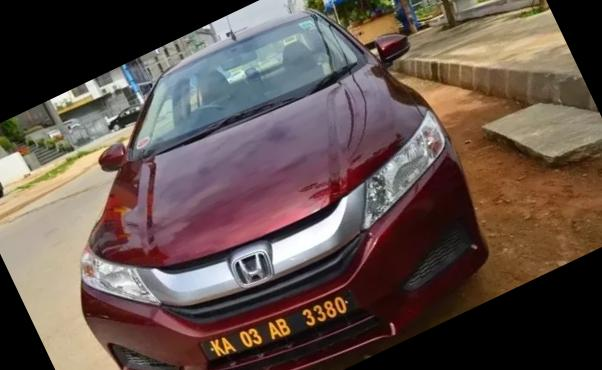plate: (186, 270, 364, 370)
